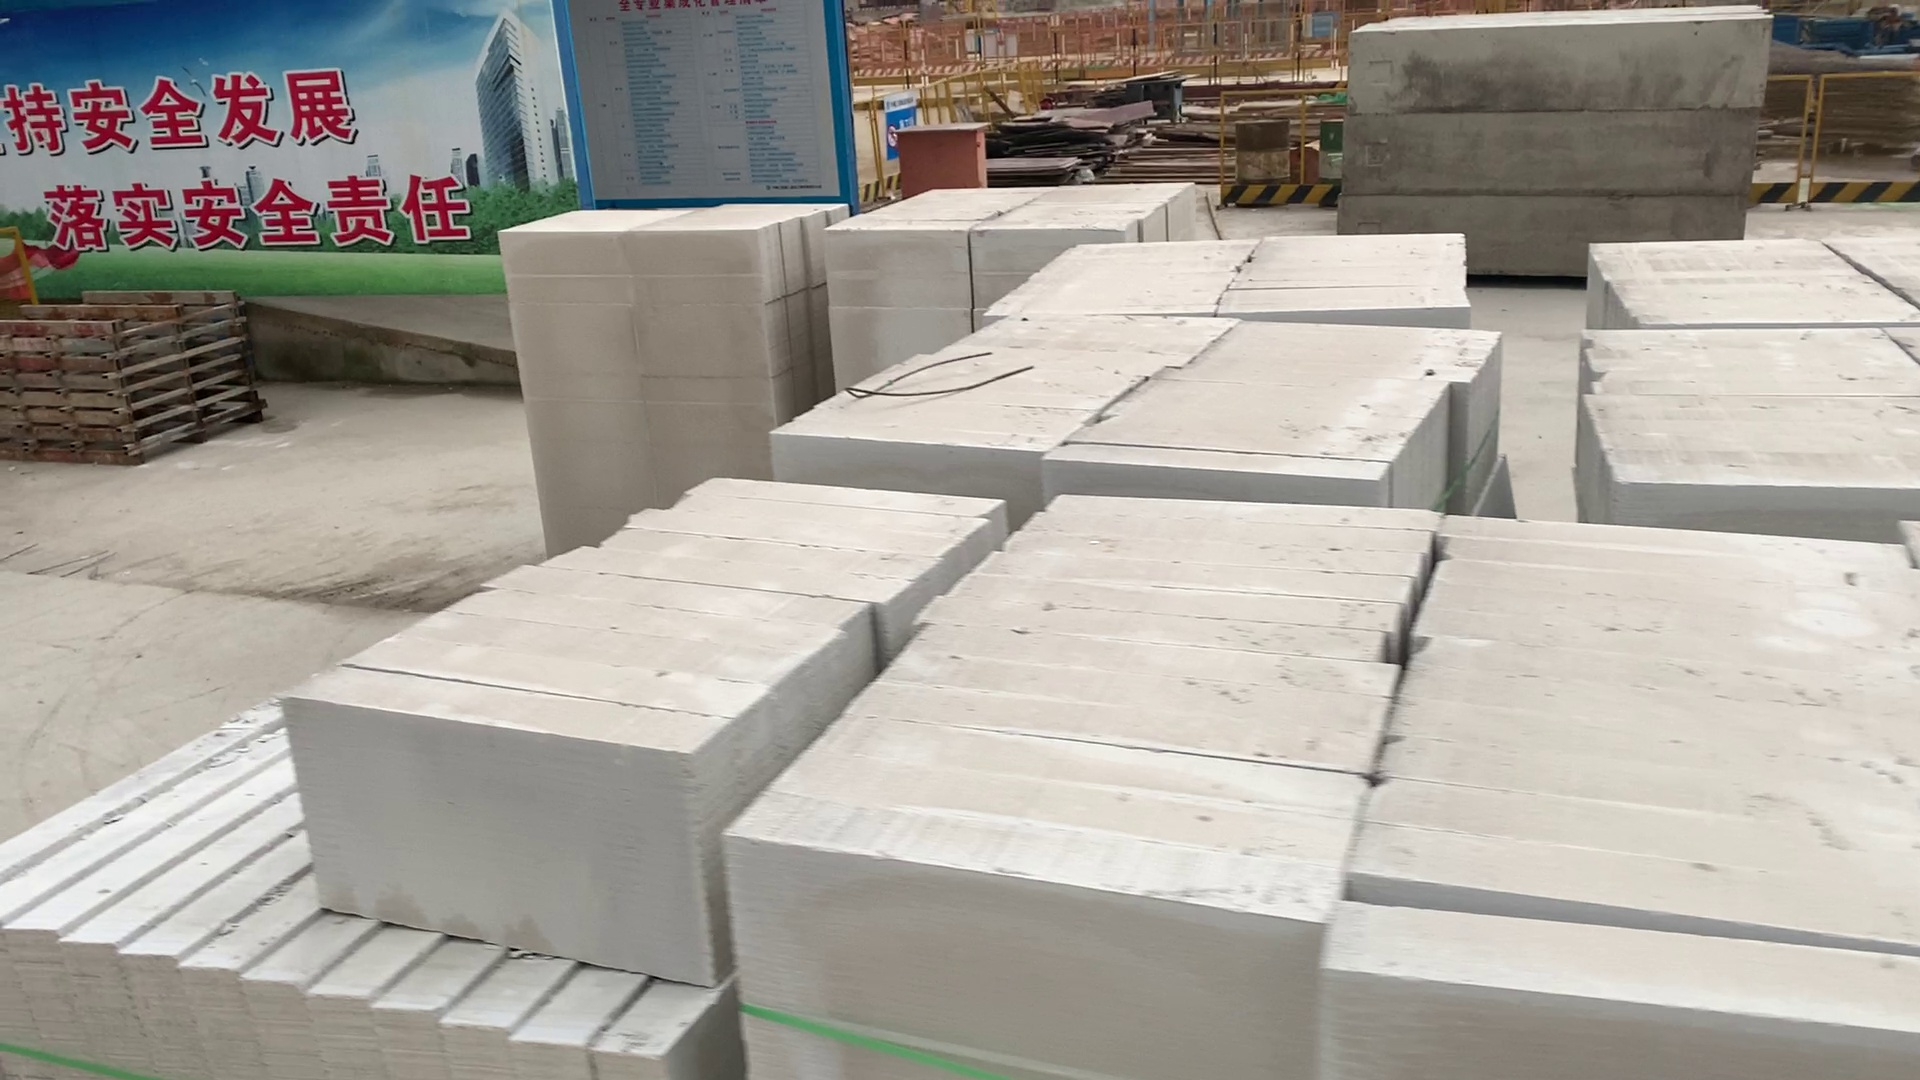brickwork: (764, 500, 1920, 1076), (299, 476, 984, 931), (779, 316, 1509, 500), (502, 206, 779, 484), (1580, 324, 1920, 502), (988, 239, 1485, 323), (829, 179, 1184, 291), (1575, 225, 1920, 328)
